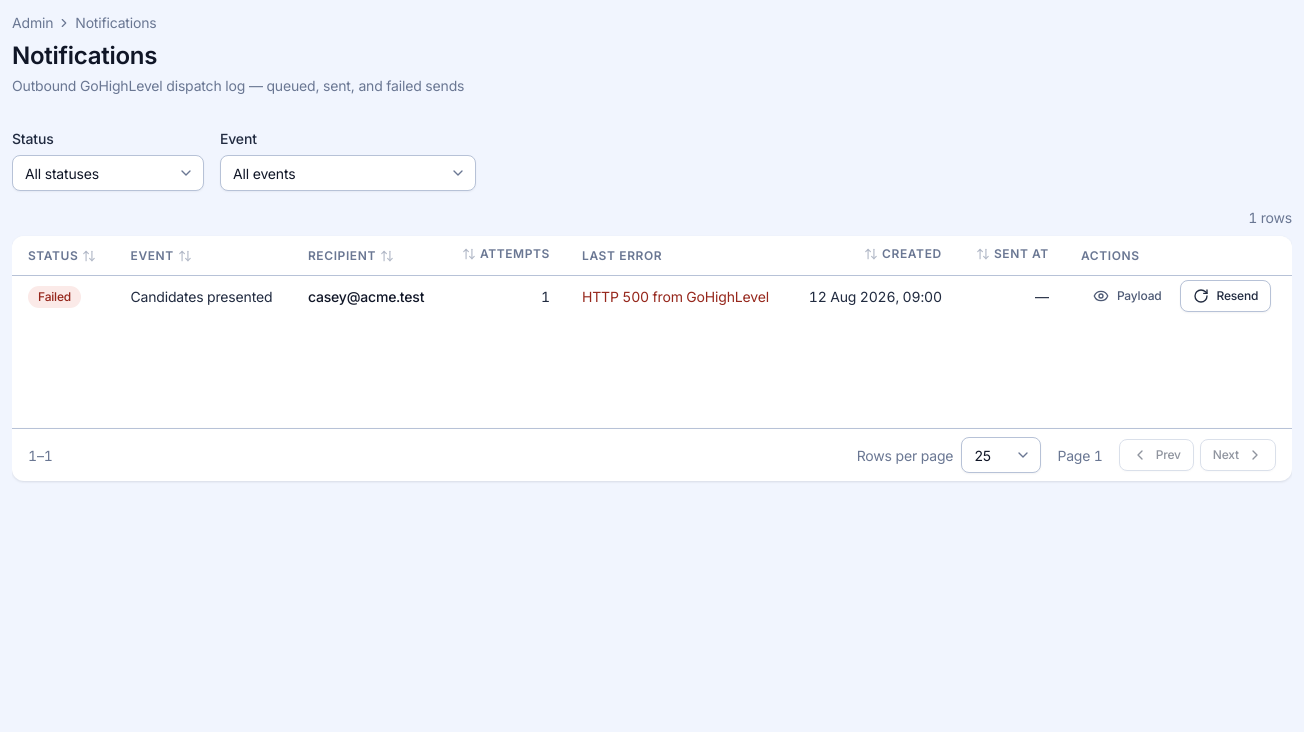
Test: notification log page › resends a failed notification via POST /admin/notifications/:id/resend
This screenshot has width=1304, height=732.
Click the button "Resend" at [1225, 296], box [1180, 280, 1271, 312]
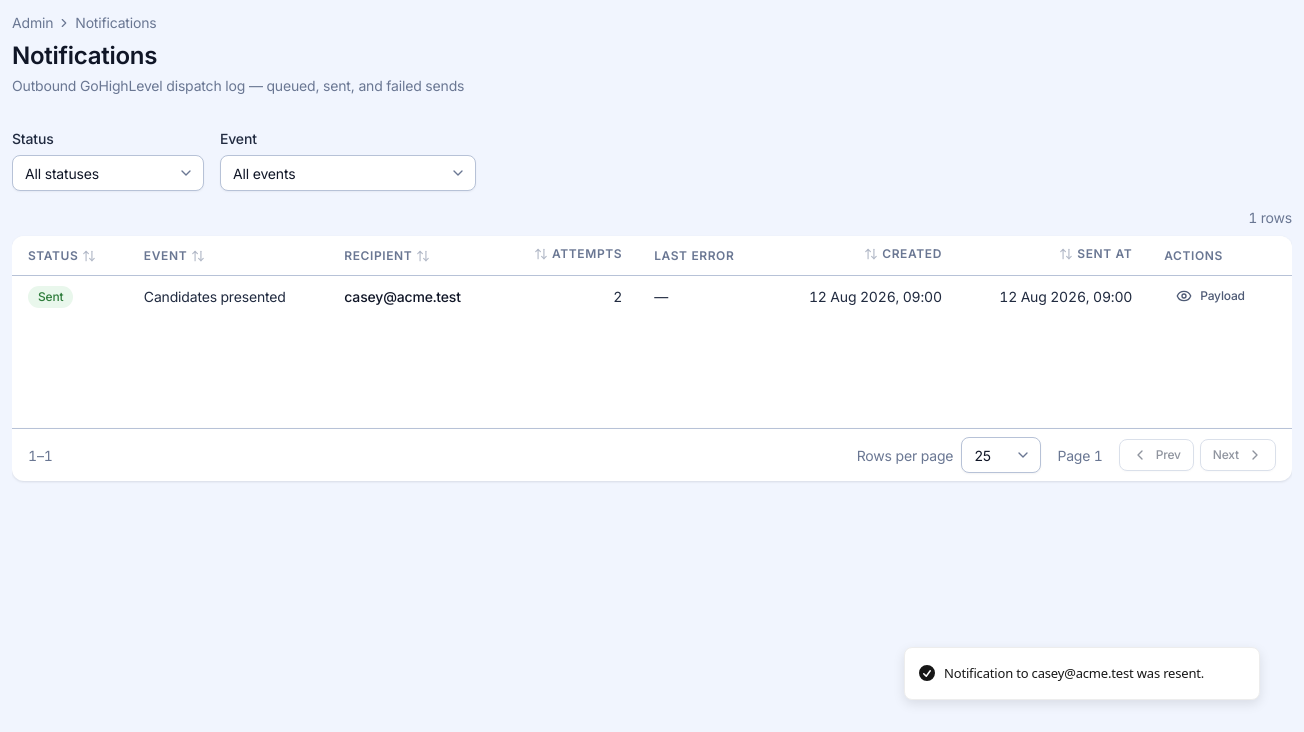
Check: the text "Sent" is shown, box [28, 286, 73, 308]
